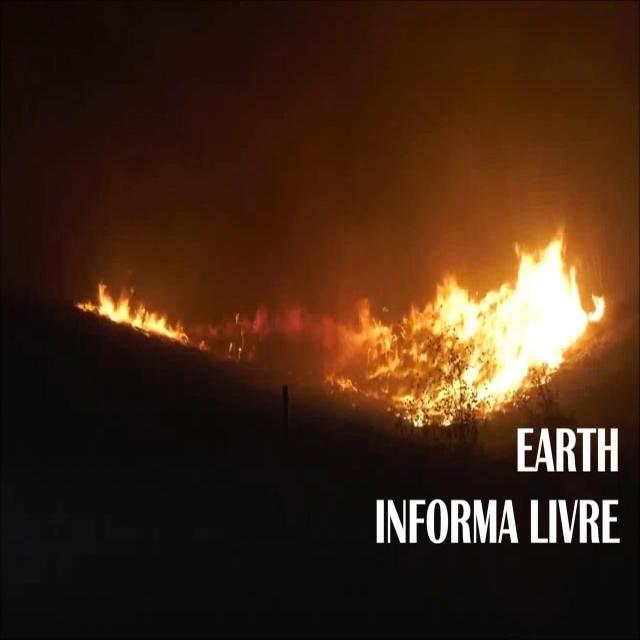Fire: (319, 211, 606, 430), (74, 278, 189, 347)
